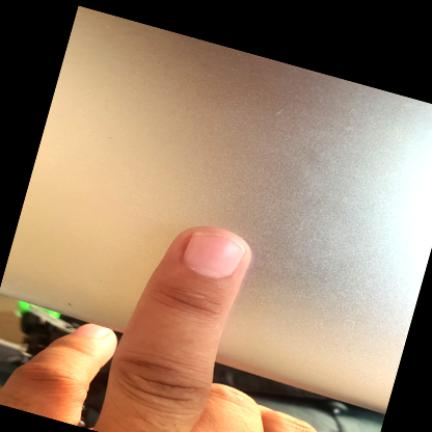Nail: (184, 232, 245, 278)
